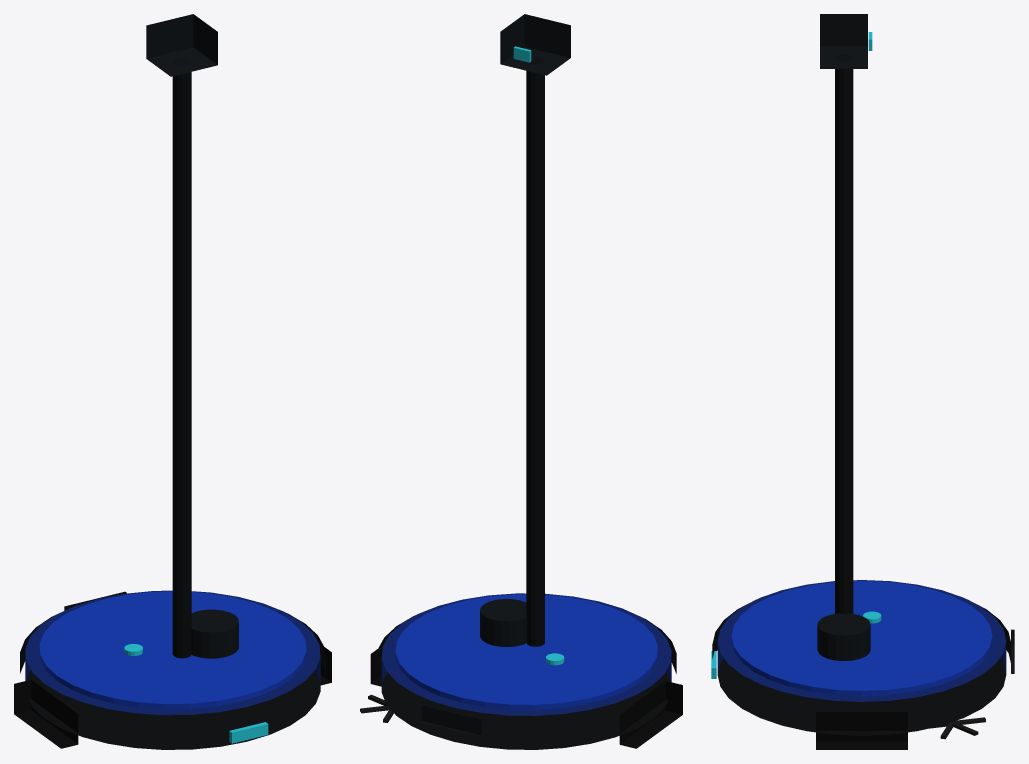
Rendered from robot_blue_h140.obj.
3 renders of one model, left to right at view 1: azimuth 30°, elevation 25°; view 2: azimuth 150°, elevation 25°; view 3: azimuth 270°, elevation 25°, orthographic. The views are drawn at different scales.
Parts seen in each view (by area): view 1: low_poly_robot_vacuum; view 2: low_poly_robot_vacuum; view 3: low_poly_robot_vacuum.
Part boxes in pixels (x1,y1,x2,y2): low_poly_robot_vacuum: (14, 14, 331, 749); low_poly_robot_vacuum: (360, 14, 682, 749); low_poly_robot_vacuum: (711, 14, 1014, 749).
Size of the model in its own units: 0.596 by 1.42 by 0.592.
